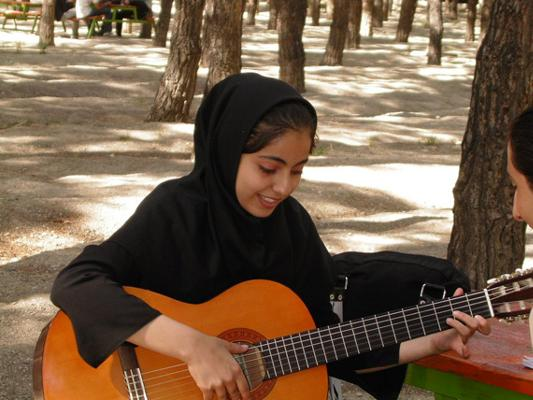person: (50, 72, 490, 400)
